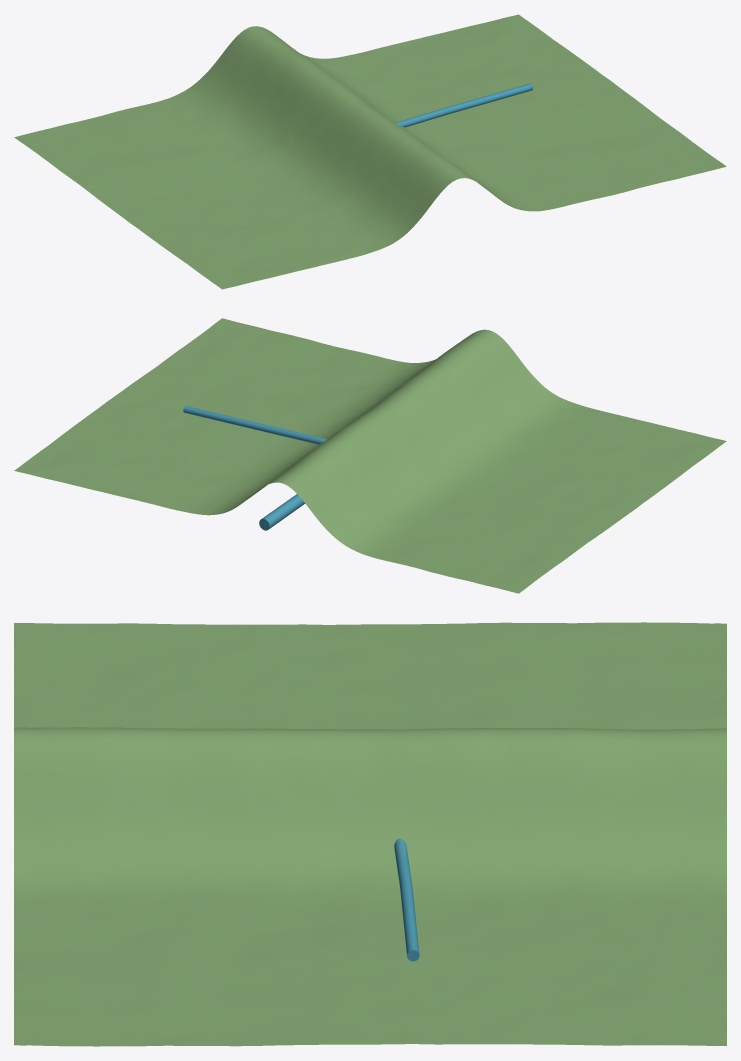
File: river-capture.glb
3 renders of one model, top to bottom at view 1: azimuth 30°, elevation 25°; view 2: azimuth 150°, elevation 25°; view 3: azimuth 270°, elevation 25°, orthographic. The views are drawn at different scales.
Visible parts, largest first — view 1: Capture_Land, Capture_Beheaded; view 2: Capture_Land, Capture_Beheaded, Capture_Pirate; view 3: Capture_Land, Capture_Beheaded.
Boxes of the visible parts, x1,y1,x2,y2 form: Capture_Land: [14, 14, 726, 289]; Capture_Beheaded: [396, 83, 532, 127]; Capture_Land: [14, 318, 726, 593]; Capture_Beheaded: [183, 405, 326, 444]; Capture_Pirate: [259, 494, 304, 530]; Capture_Land: [14, 622, 726, 1046]; Capture_Beheaded: [394, 838, 419, 961].
Size of the model in its own units: 7 by 0.9057 by 5.
